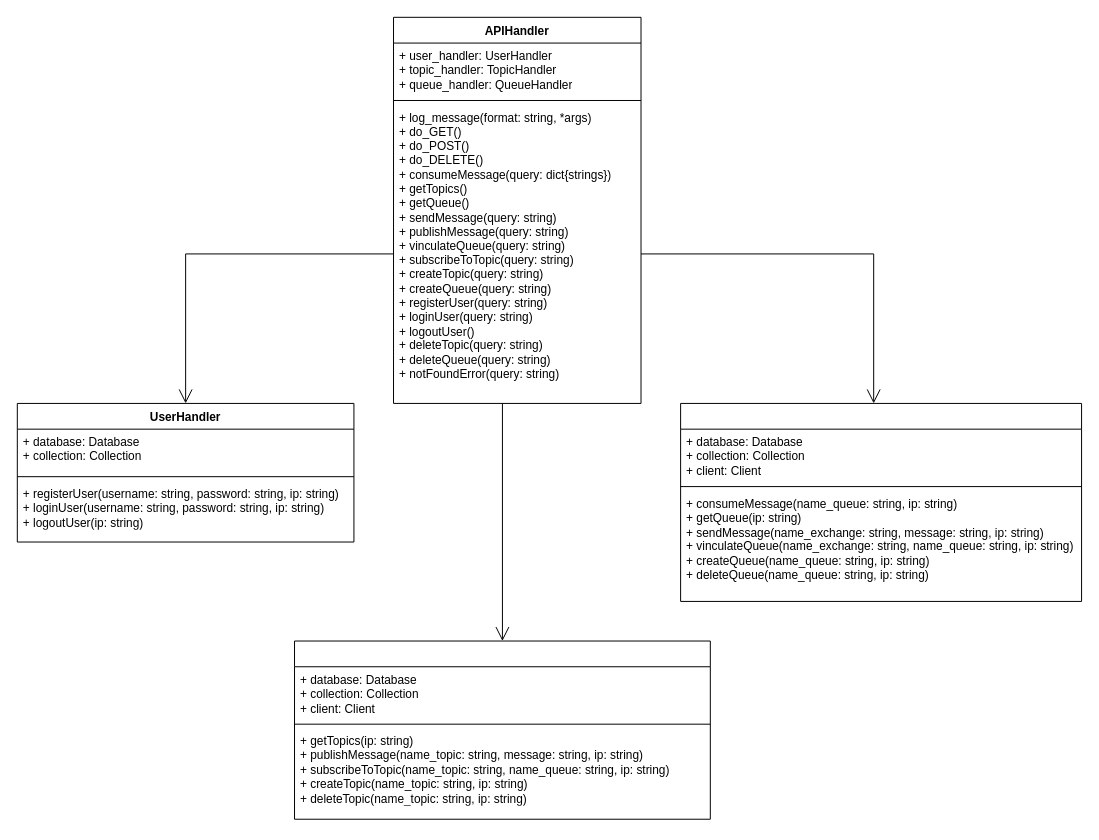
This 1099x840 diagram has some shape labels left out. The shapes that lost their labels are listed below. From the top down, each one's box as (x1, y1, x2, y2) in pixels, then its label:
(680, 402, 1082, 601): QueueHandler
(294, 640, 710, 819): TopicHandler
